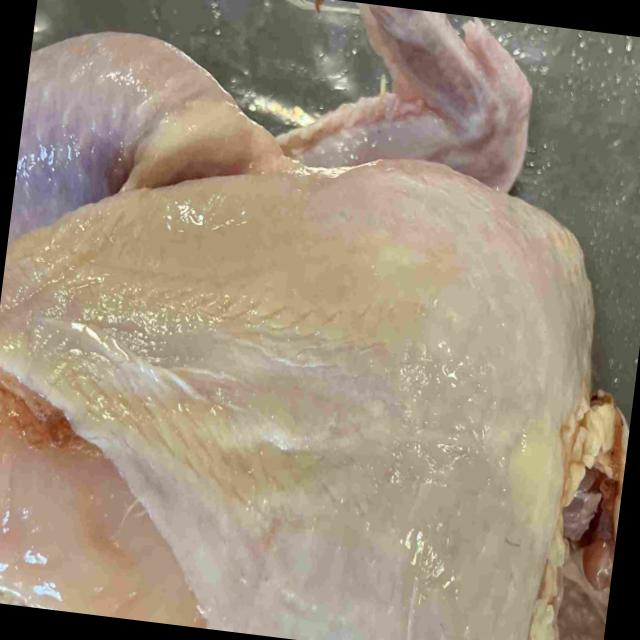breast: (0, 162, 592, 640)
leg: (7, 35, 269, 247)
neck: (562, 409, 628, 640)
wing: (280, 2, 527, 192)
